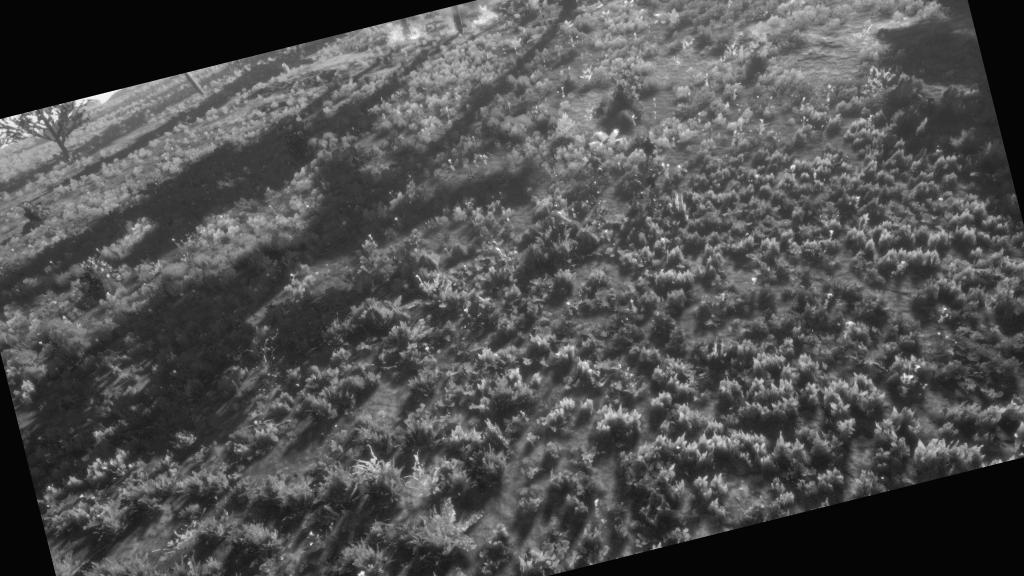Fire: (446, 0, 503, 38), (382, 15, 428, 49)
human: (606, 120, 682, 222), (573, 136, 619, 198), (536, 195, 581, 243), (480, 232, 519, 282)
